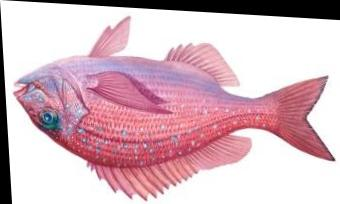fish: (12, 17, 332, 199)
